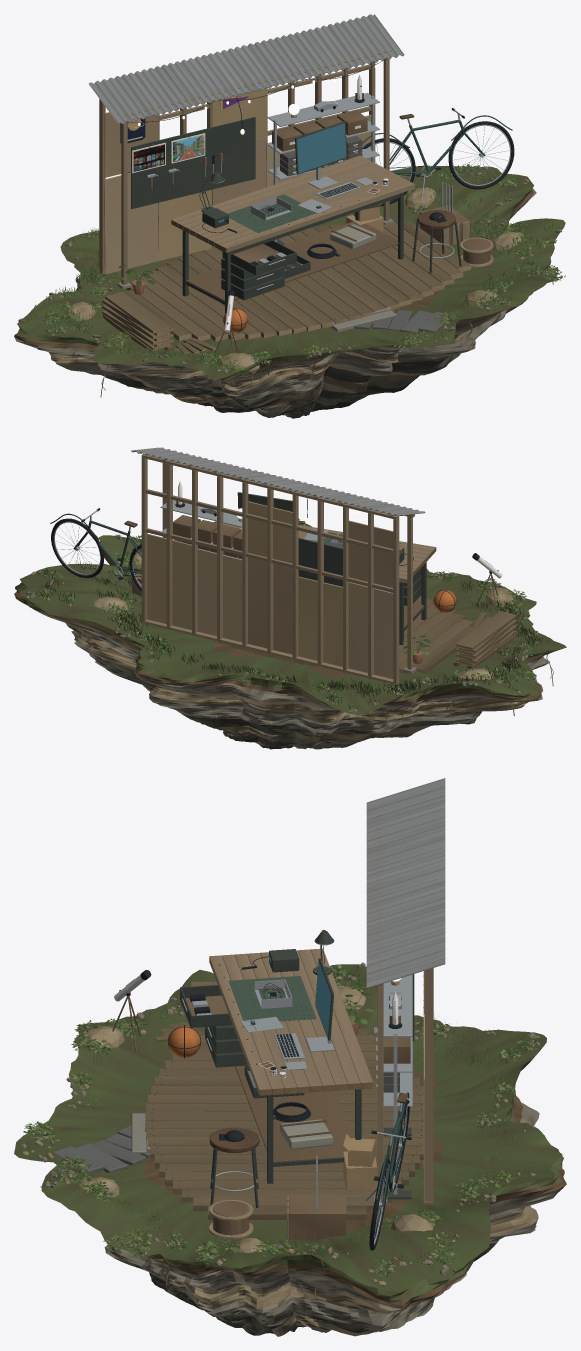
The model's file is orbit-projects-8916ac99.glb.
3 renders of one model, top to bottom at view 1: azimuth 30°, elevation 25°; view 2: azimuth 150°, elevation 25°; view 3: azimuth 270°, elevation 25°, orthographic. The views are drawn at different scales.
Parts seen in each view (by area): view 1: Projects island · browser materials, Project print · TaipeiFlix, Project print · Taipei Run; view 2: Projects island · browser materials; view 3: Projects island · browser materials.
Boxes of the visible parts, <box> form: Projects island · browser materials: <box>14,14,565,418</box>; Project print · TaipeiFlix: <box>133,144,164,171</box>; Project print · Taipei Run: <box>173,135,204,162</box>; Projects island · browser materials: <box>14,447,566,749</box>; Projects island · browser materials: <box>14,778,566,1336</box>.
Size of the model in its own units: 12.18 by 7.15 by 8.18.
47 materials, 2 textured.
